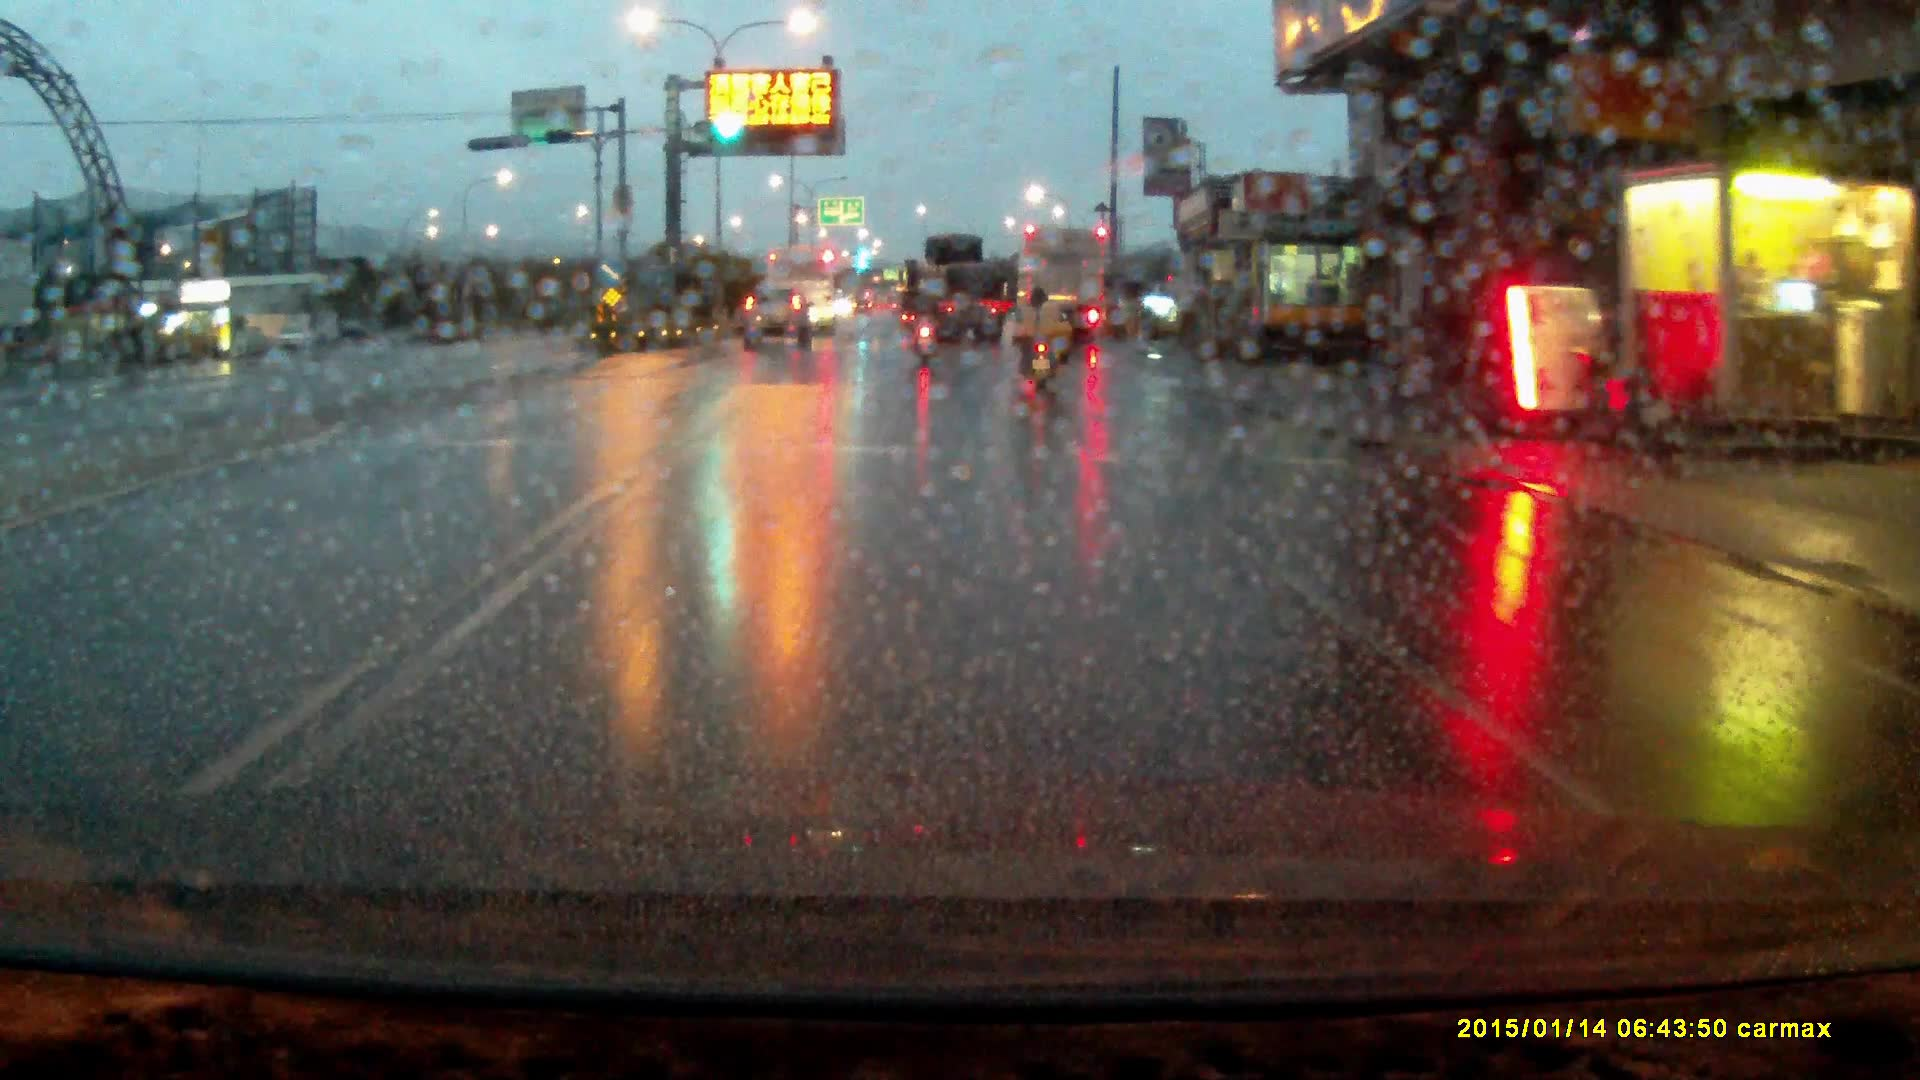rider: (1018, 287, 1063, 399), (905, 281, 940, 366)
vehicle: (1019, 225, 1111, 342), (911, 234, 1005, 347), (763, 246, 836, 336), (741, 285, 812, 350)
